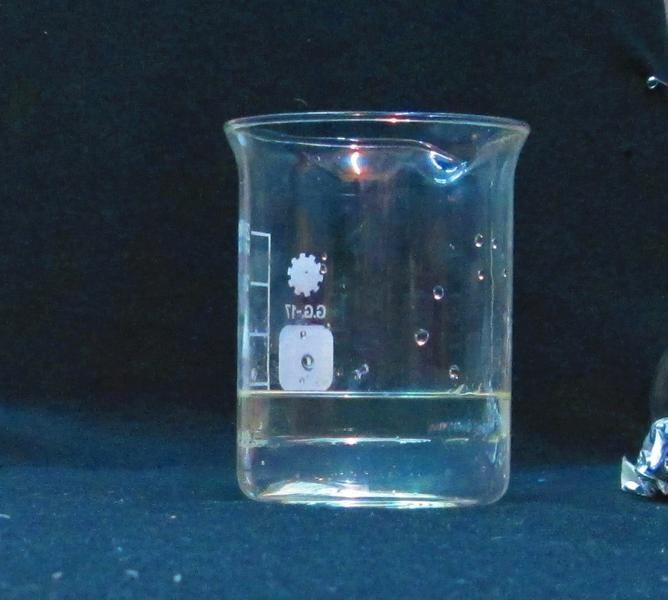Beaker: (220, 113, 538, 513)
